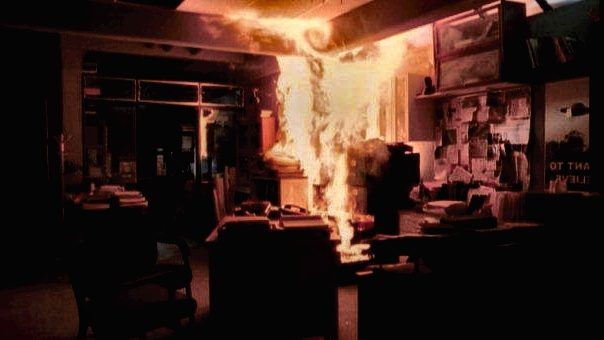fire: (223, 0, 439, 273)
